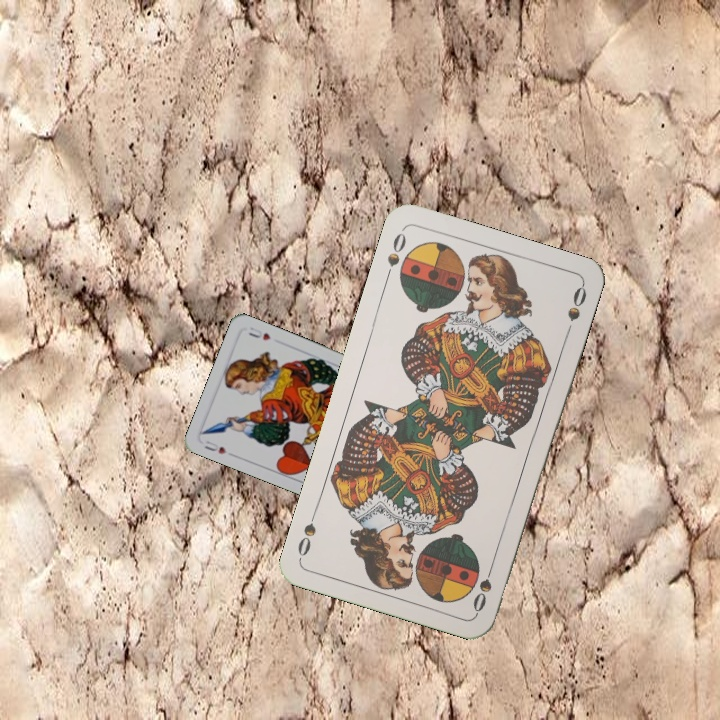HU: (200, 437, 229, 457)
SO: (469, 557, 497, 615), (381, 226, 409, 283)
